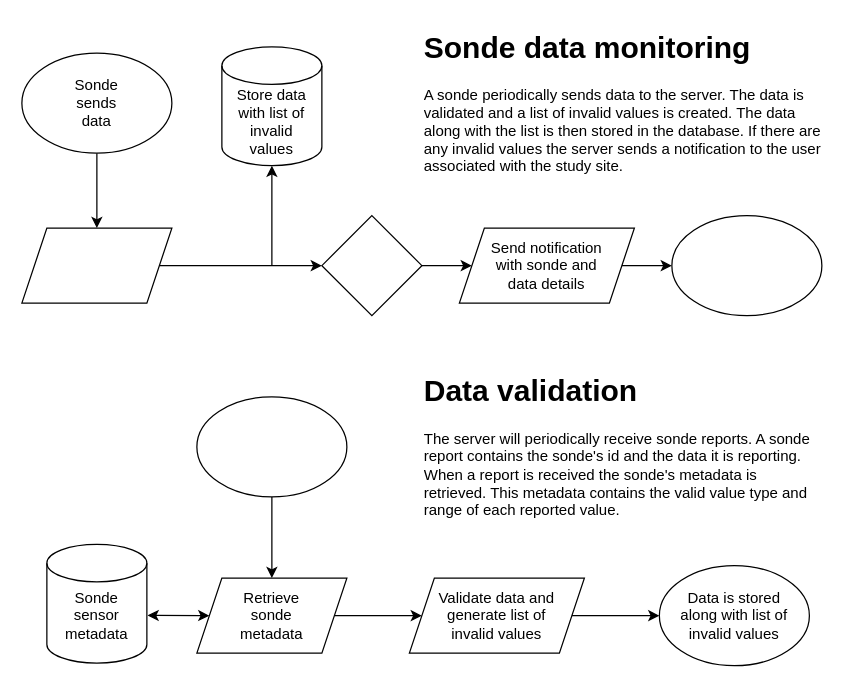
Image size: 844x688. Some labels were removed from this diagram. The centre of each missing label's shape, as x and y in pixels:
Examine sonde data via web interface: point (746, 265)
Invalid data?: point (371, 265)
Server receives data: point (271, 446)
Validate data: point (96, 265)
